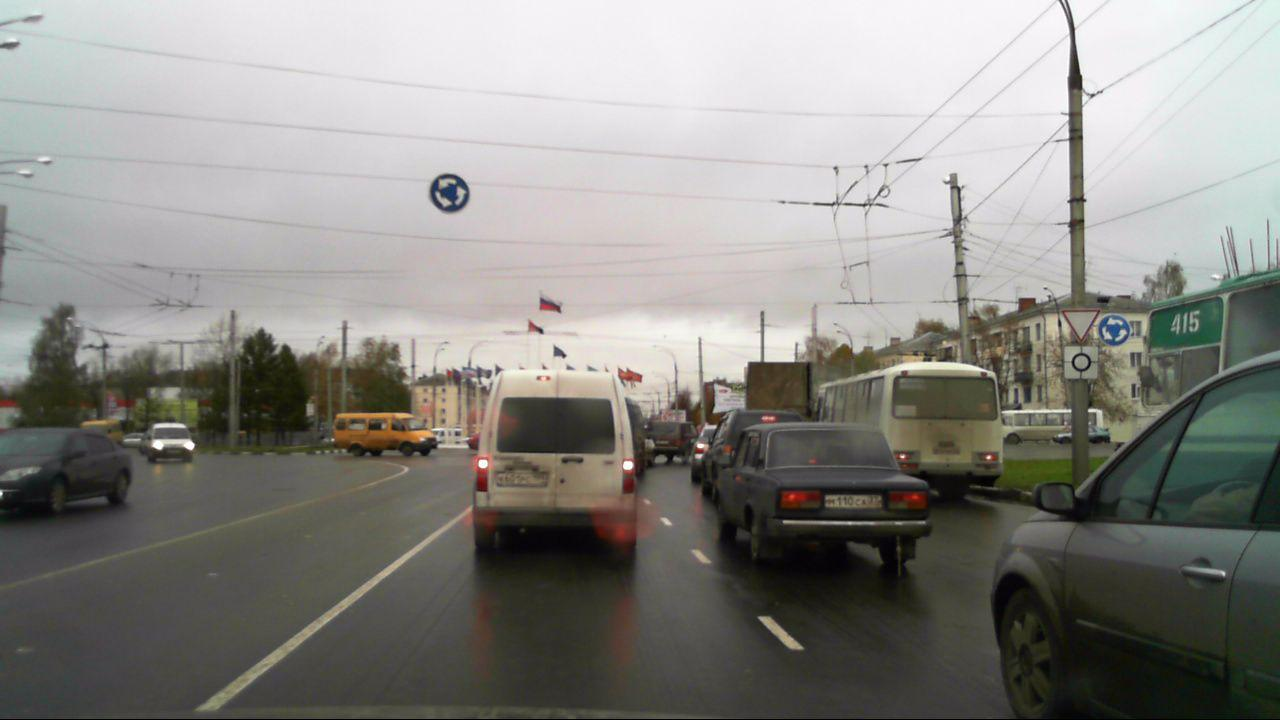2_4: (1059, 307, 1100, 343)
4_3: (430, 170, 473, 214), (1098, 314, 1130, 347)
8_13: (1063, 346, 1098, 379)
